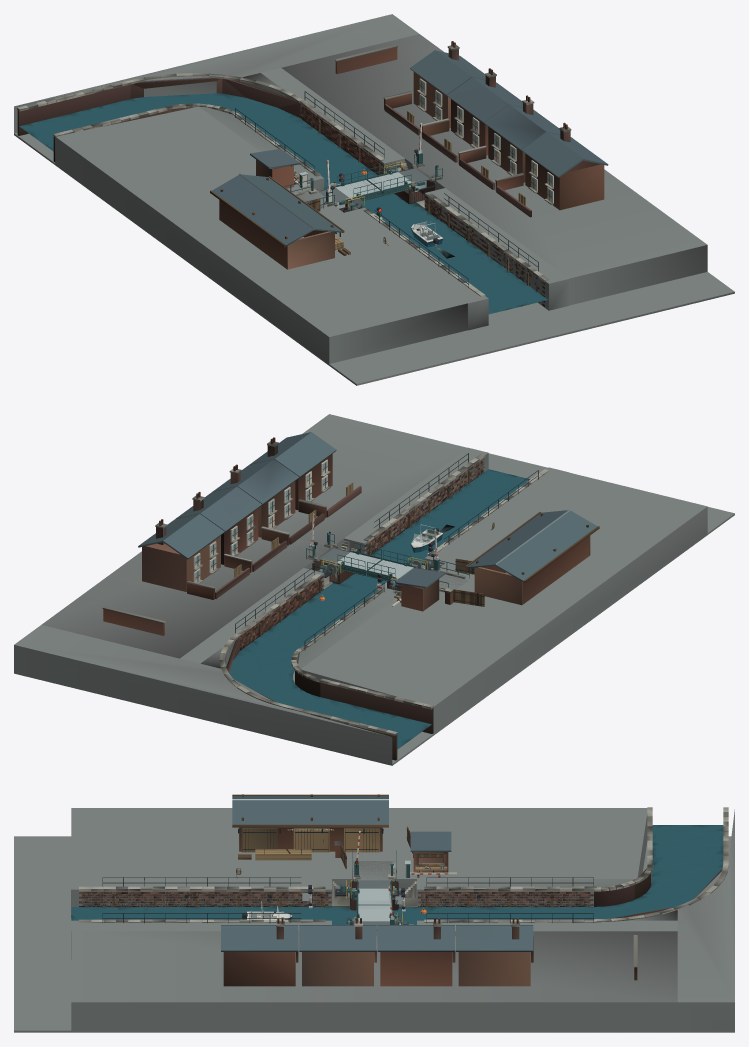
Rendered from mini.glb.
3 renders of one model, top to bottom at view 1: azimuth 30°, elevation 25°; view 2: azimuth 150°, elevation 25°; view 3: azimuth 270°, elevation 25°, orthographic. The views are drawn at different scales.
Visible parts, largest first — view 1: part/approach/detector, part/wharf/cream, Canal_Water, part/wharf/glass; view 2: part/approach/detector, part/wharf/cream, Canal_Water, part/wharf/glass; view 3: part/approach/detector, part/wharf/cream, Canal_Water, part/east/deck, part/west/deck.
Part boxes in pixels (<box>): part/approach/detector: <box>14,14,734,385</box>; part/wharf/cream: <box>212,50,608,246</box>; Canal_Water: <box>19,93,547,314</box>; part/wharf/glass: <box>420,80,552,199</box>; part/approach/detector: <box>14,414,734,765</box>; part/wharf/cream: <box>138,432,597,606</box>; Canal_Water: <box>226,469,530,749</box>; part/wharf/glass: <box>195,461,327,580</box>; part/approach/detector: <box>14,794,734,1032</box>; part/wharf/cream: <box>221,796,533,951</box>; Canal_Water: <box>71,825,723,924</box>; part/east/deck: <box>358,905,390,921</box>; part/west/deck: <box>358,888,390,904</box>.
Bounding box in the file's own units: 44 × 9.72 × 69.
Materials: 7 (7 with a texture image).
